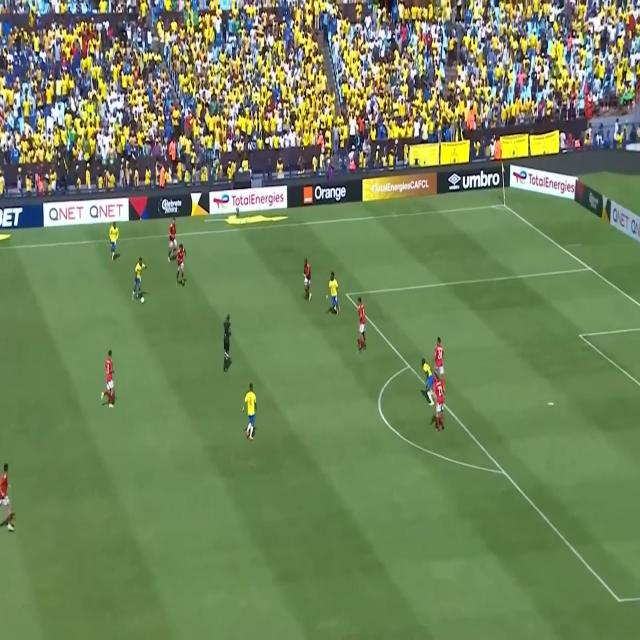Ball: (141, 296, 145, 306)
Player: (2, 448, 20, 544), (99, 342, 120, 418), (431, 372, 450, 436), (322, 268, 344, 322), (241, 384, 261, 441), (354, 291, 370, 359), (299, 248, 315, 306), (104, 217, 121, 270), (433, 337, 447, 397), (420, 358, 433, 407), (132, 253, 144, 301), (176, 238, 187, 290), (168, 216, 177, 261)
Ref: (222, 301, 232, 383)
